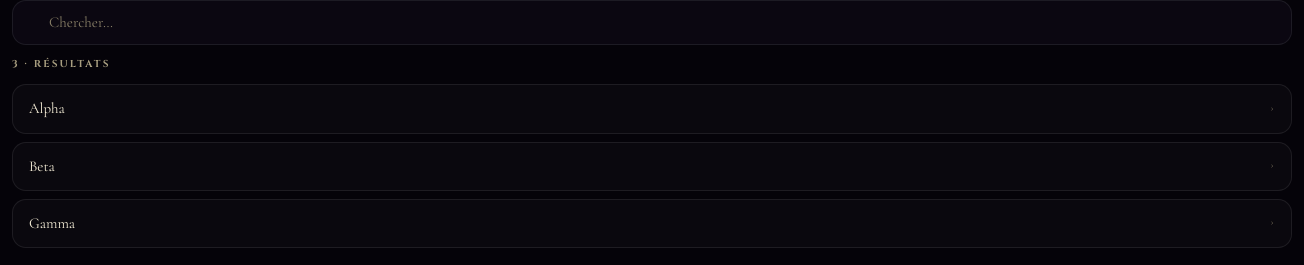
Test: TextEntityBrowser (Codex) › montre l’état vide quand rien ne correspond
Type "zzz introuvable" into the field with placeholder "Chercher…".
click(664, 23); type("zzz introuvable")  # box [49,11,1279,34]
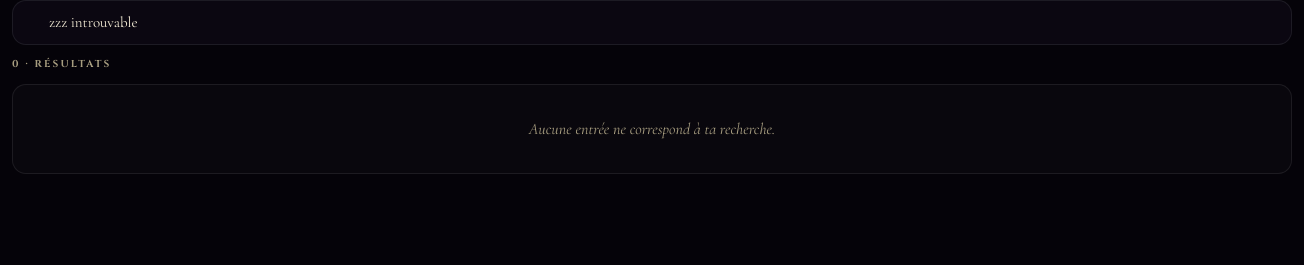
expect the text "Aucune entrée ne correspond à ta recherche." is shown: met, box [12,84,1292,174]
